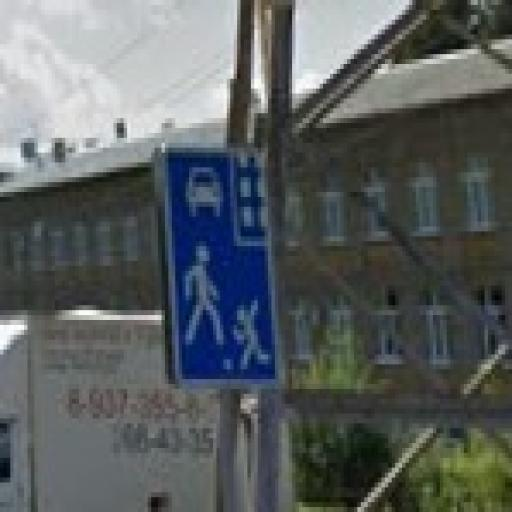traffic_sign: (159, 144, 286, 390)
